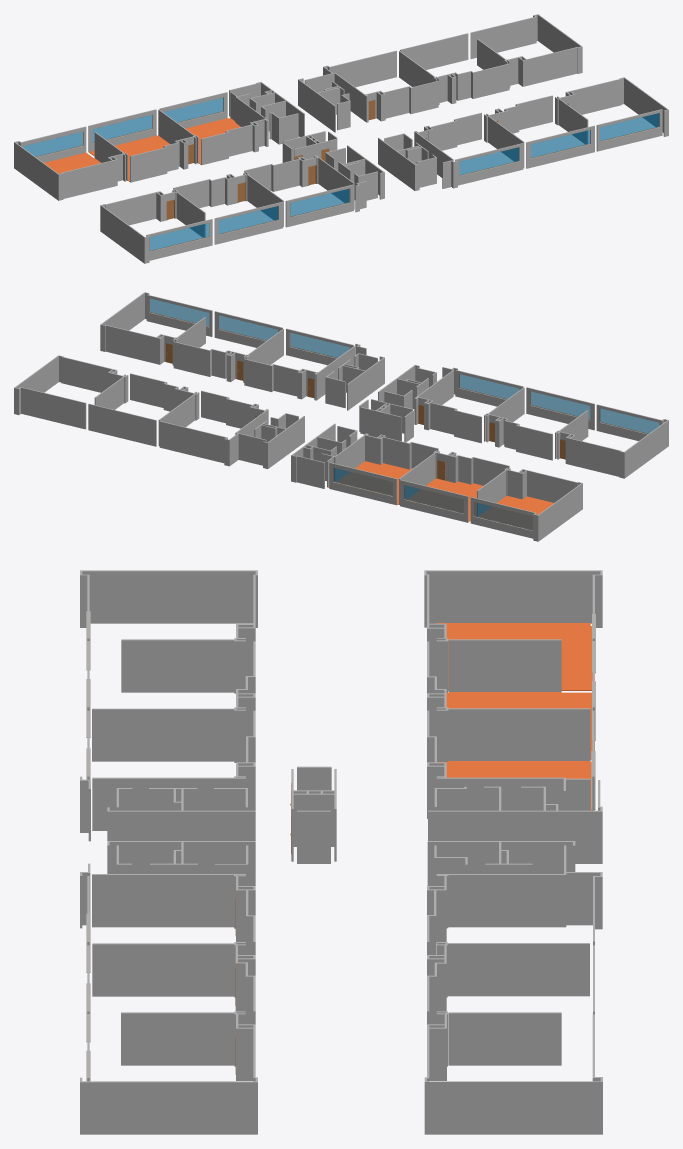
File: 001-PRO-F2STUDIO-M3D-ARQ-001.glb
The picture shows the model from 3 angles, top to bottom: view 1: azimuth 30°, elevation 25°; view 2: azimuth 150°, elevation 25°; view 3: azimuth 270°, elevation 25°; orthographic projection. The views are drawn at different scales.
Parts seen in each view (by area): view 1: empty_286, empty_285, empty_93, empty_67, empty_66, empty_86, empty_6, empty_105, empty_3, empty_190, empty_110, empty_150 (+53 smaller); view 2: empty_286, empty_285, empty_67, empty_66, empty_93, empty_190, empty_110, empty_105, empty_86, empty_3, empty_6, empty_97 (+51 smaller); view 3: empty_90, empty_187, empty_285, empty_105, empty_3, empty_174, empty_71, empty_117, empty_160, empty_21, empty_55, empty_80 (+18 smaller).
Boxes of the visible parts, x1,y1,x2,y2 form: empty_286: (20, 90, 662, 260); empty_285: (44, 118, 240, 181); empty_93: (470, 17, 535, 58); empty_67: (400, 33, 468, 69); empty_66: (329, 50, 396, 87); empty_86: (523, 47, 577, 86); empty_6: (62, 159, 116, 198); empty_105: (100, 205, 145, 263); empty_3: (14, 142, 59, 200); empty_190: (565, 79, 620, 114); empty_110: (106, 191, 160, 225); empty_150: (378, 137, 415, 190); empty_286: (146, 294, 661, 538); empty_285: (328, 461, 553, 529); empty_67: (88, 403, 156, 446); empty_66: (159, 421, 227, 463); empty_93: (21, 387, 86, 429); empty_190: (106, 325, 160, 364); empty_110: (565, 437, 619, 476); empty_105: (623, 420, 668, 478); empty_86: (62, 357, 115, 392); empty_3: (538, 483, 582, 540); empty_6: (523, 469, 576, 502); empty_97: (360, 407, 401, 441); empty_90: (427, 1081, 602, 1134); empty_187: (82, 1081, 257, 1134); empty_285: (436, 623, 592, 810); empty_105: (80, 570, 257, 623); empty_3: (424, 570, 600, 623); empty_174: (92, 943, 234, 996); empty_71: (447, 943, 589, 996); empty_117: (92, 708, 234, 761); empty_160: (92, 874, 245, 927); empty_21: (448, 708, 590, 760); empty_55: (436, 874, 563, 927); empty_80: (448, 1012, 561, 1065).
Bounding box in the file's own units: 62.89 × 3 × 27.16.
